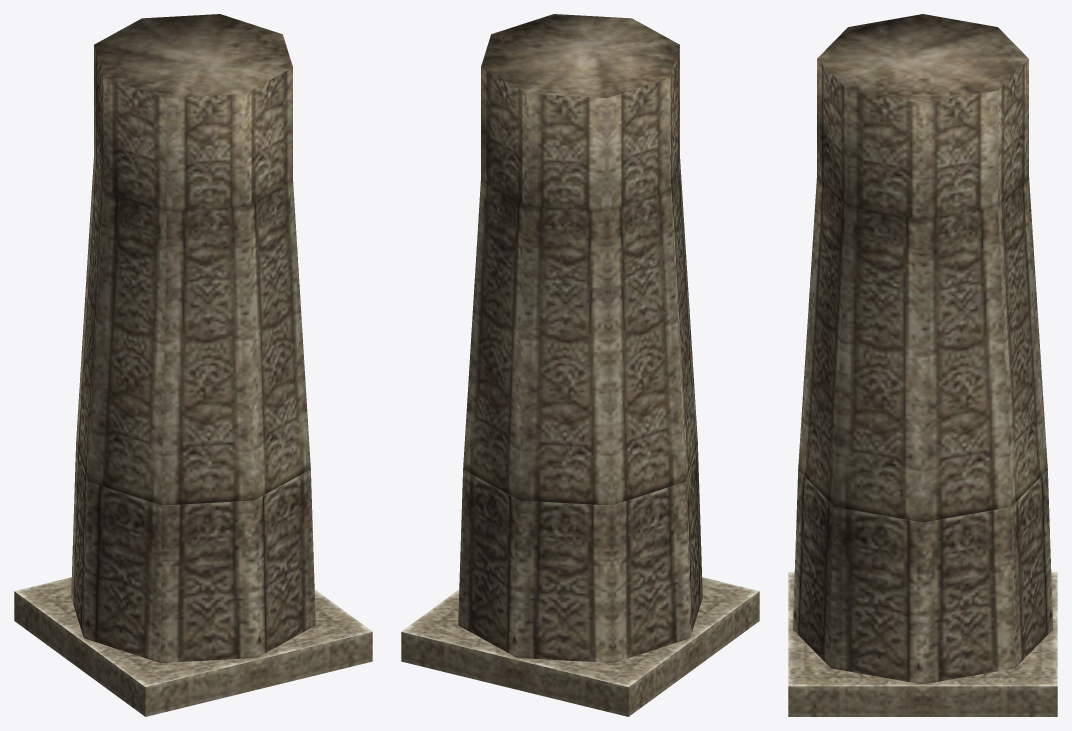
Rendered from general_obj_bigtoewr10.glb.
3 renders of one model, left to right at view 1: azimuth 30°, elevation 25°; view 2: azimuth 150°, elevation 25°; view 3: azimuth 270°, elevation 25°, orthographic. The views are drawn at different scales.
Parts seen in each view (by area): view 1: Sphere01; view 2: Sphere01; view 3: Sphere01.
Boxes of the visible parts, x1,y1,x2,y2 form: Sphere01: [14, 14, 372, 716]; Sphere01: [401, 14, 759, 716]; Sphere01: [788, 14, 1057, 716].
Size of the model in its own units: 4 by 9.84 by 4.
1 material, 1 textured.
